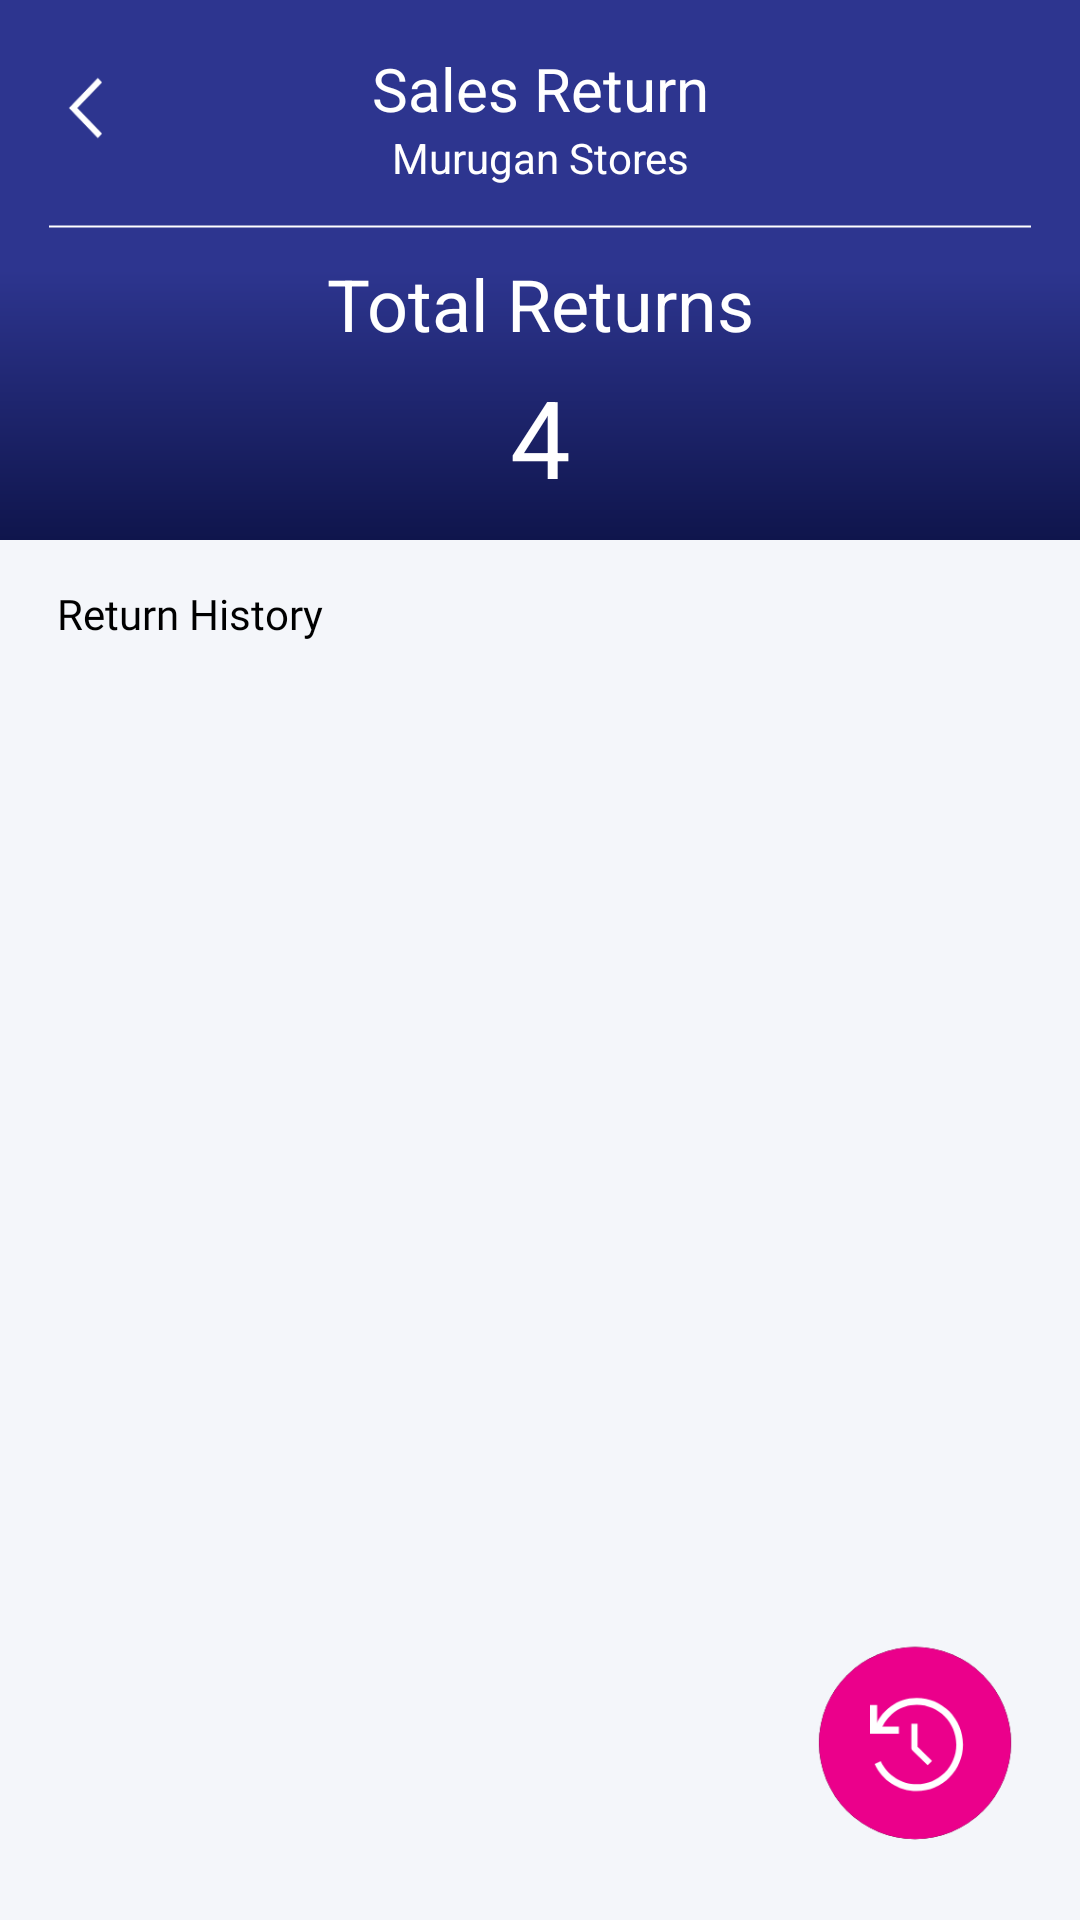

Icons on this 1080 x 1920 Android screen, each with the point to tap as [x,y]:
back: [85,108]
resource return: [915,1743]
